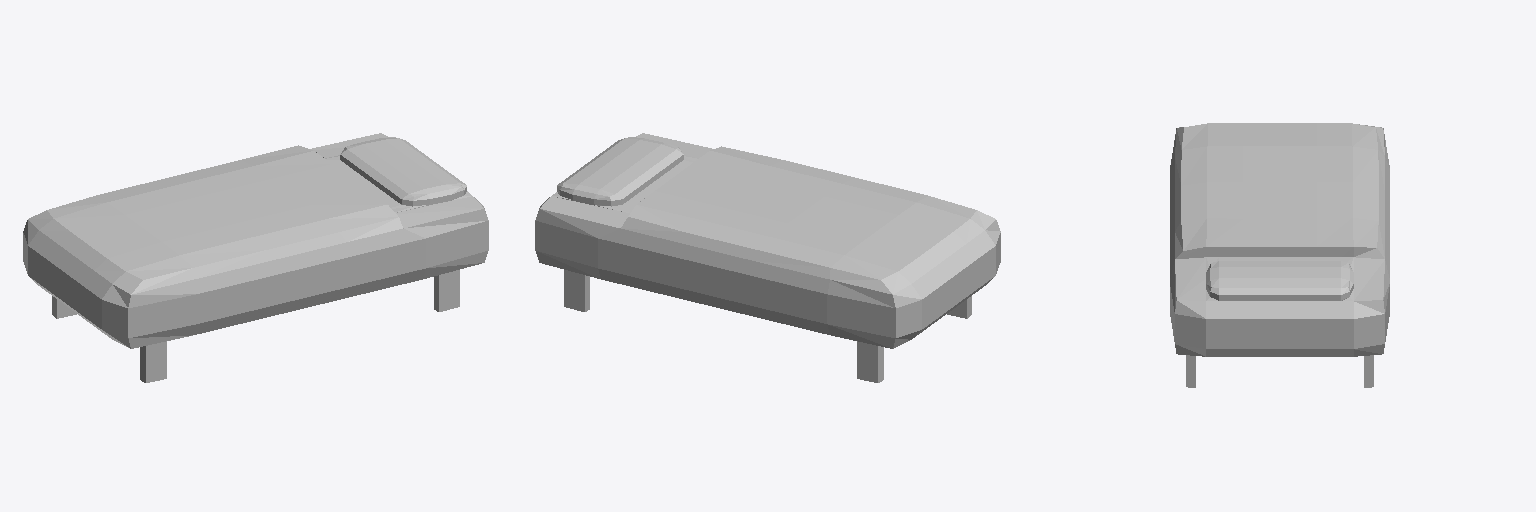
The model's file is Bed.obj.
The picture shows the model from 3 angles: view 1: azimuth 30°, elevation 25°; view 2: azimuth 150°, elevation 25°; view 3: azimuth 270°, elevation 25°; orthographic projection.
Parts seen in each view (by area): view 1: Cube_Cube.001; view 2: Cube_Cube.001; view 3: Cube_Cube.001.
Part boxes in pixels (x1,y1,x2,y2): Cube_Cube.001: (23, 133, 488, 382); Cube_Cube.001: (535, 133, 1000, 382); Cube_Cube.001: (1170, 123, 1389, 387).
Size of the model in its own units: 3 by 0.8369 by 1.5.